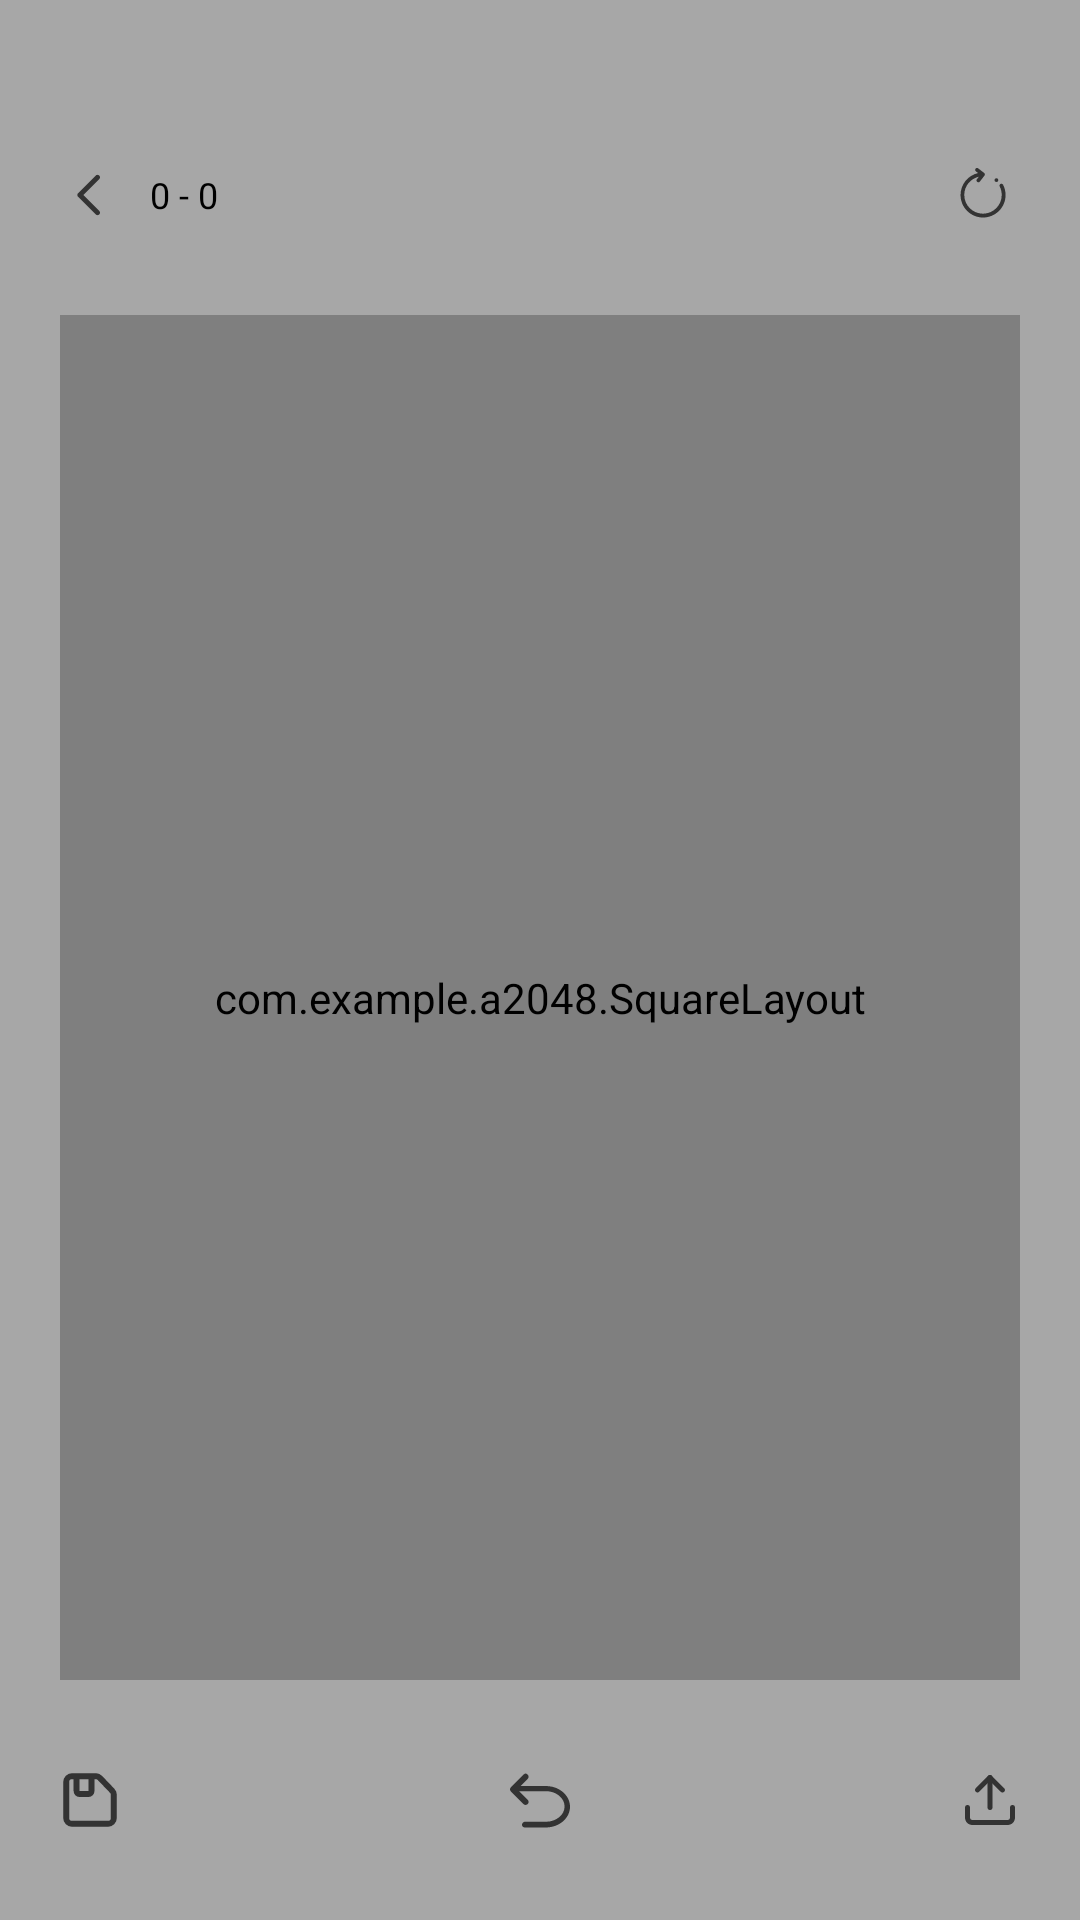

Screen size 1080 × 1920. Icon name, then its box in pixels as (x1, y1, x2, y2):
restart: (960, 168, 1006, 218)
return: (77, 175, 100, 215)
revoke: (510, 1773, 570, 1828)
save: (63, 1773, 117, 1827)
